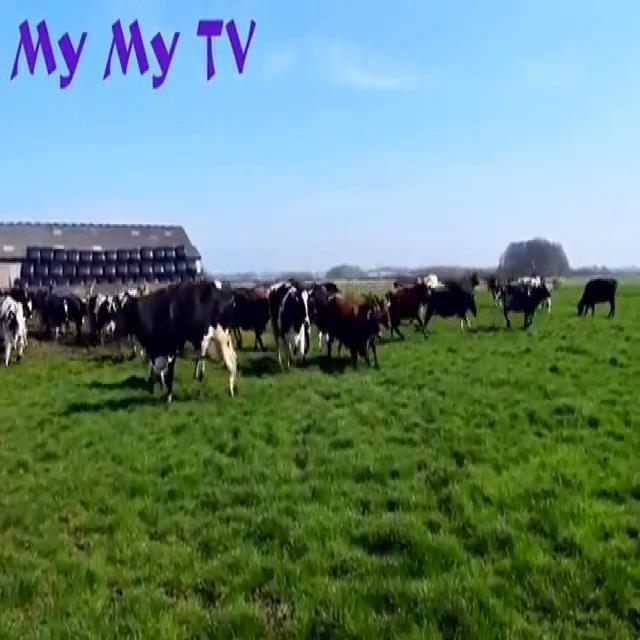COW: (104, 267, 248, 405), (264, 276, 315, 370), (415, 269, 479, 338), (495, 270, 550, 340), (574, 268, 626, 329), (378, 275, 430, 336)
